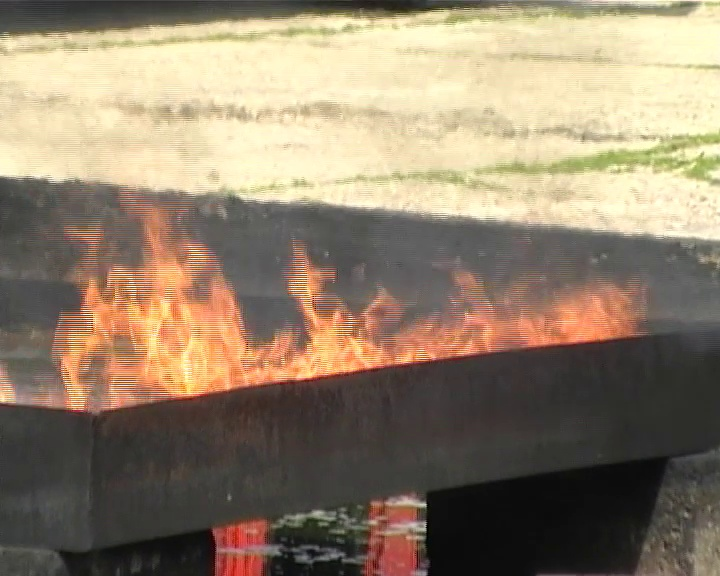fire: (53, 242, 649, 414)
